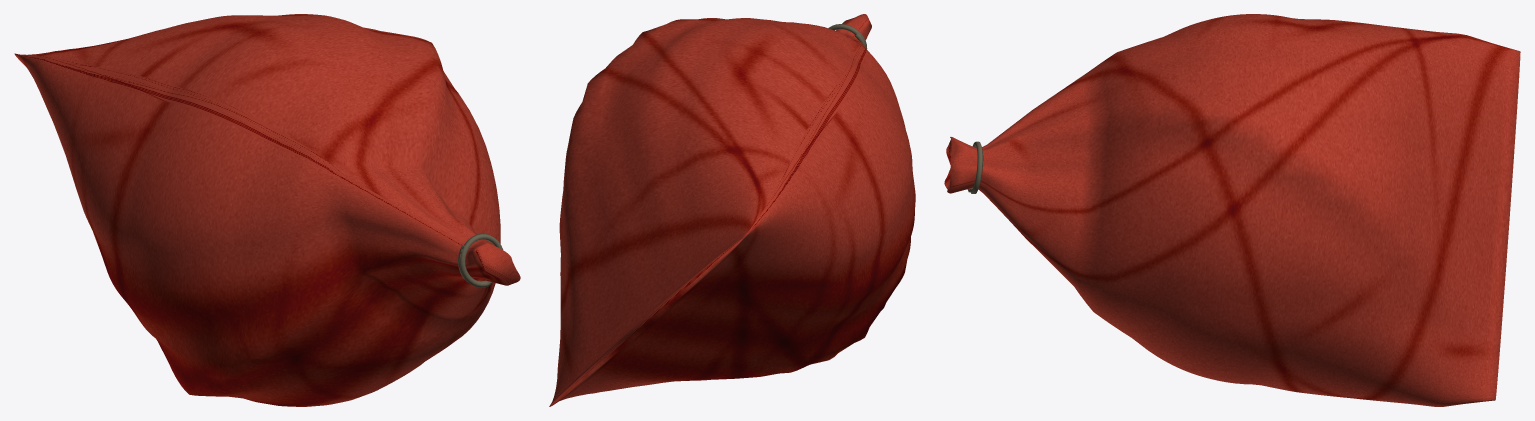
File: peach_00_014.glb
3 renders of one model, left to right at view 1: azimuth 30°, elevation 25°; view 2: azimuth 150°, elevation 25°; view 3: azimuth 270°, elevation 25°, orthographic. The views are drawn at different scales.
Parts seen in each view (by area): view 1: export_Tree00/shoot2_8_1/bag, export_Tree00/shoot2_8_1/bag/tie; view 2: export_Tree00/shoot2_8_1/bag; view 3: export_Tree00/shoot2_8_1/bag.
Part boxes in pixels (left/top/right/bottom): export_Tree00/shoot2_8_1/bag: left=14, top=14, right=520, bottom=406; export_Tree00/shoot2_8_1/bag/tie: left=458, top=233, right=503, bottom=287; export_Tree00/shoot2_8_1/bag: left=549, top=14, right=915, bottom=406; export_Tree00/shoot2_8_1/bag: left=944, top=14, right=1520, bottom=406.
Size of the model in its own units: 0.0798 by 0.0804 by 0.1236.
Materials: 4 (1 with a texture image).
